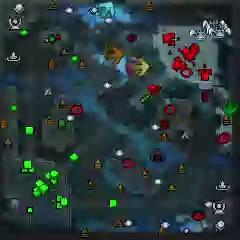x1: (125, 57, 140, 73)
x2: (132, 58, 151, 75)
x3: (97, 2, 115, 18)
x4: (220, 96, 239, 115)
x5: (105, 47, 123, 64)
